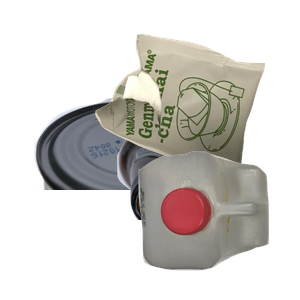glass: (115, 120, 300, 300)
metal: (16, 96, 244, 276)
plastic: (136, 149, 300, 300)
trash: (93, 31, 300, 205)
